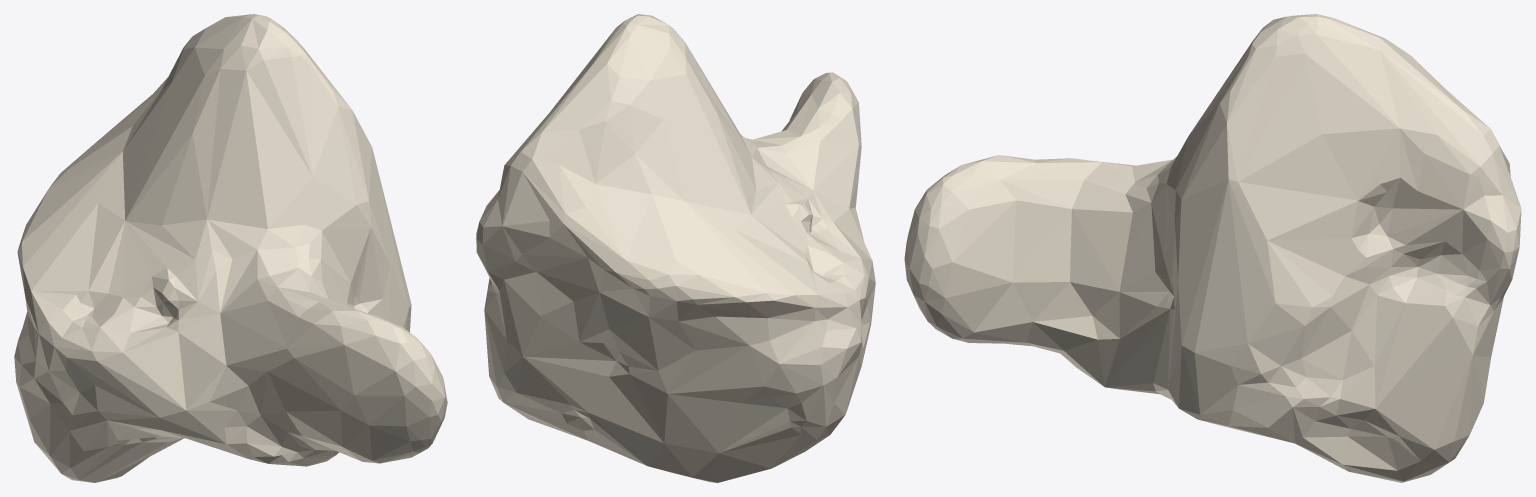
File: left_hamate.glb
The picture shows the model from 3 angles, left to right: view 1: azimuth 30°, elevation 25°; view 2: azimuth 150°, elevation 25°; view 3: azimuth 270°, elevation 25°; orthographic projection. The views are drawn at different scales.
Visible parts, largest first — view 1: left_hamate; view 2: left_hamate; view 3: left_hamate.
Boxes of the visible parts, left/top/right/bottom form: left_hamate: left=14, top=14, right=447, bottom=482; left_hamate: left=476, top=14, right=875, bottom=482; left_hamate: left=904, top=14, right=1521, bottom=482.
Size of the model in its own units: 0.0159 by 0.0195 by 0.0228.
